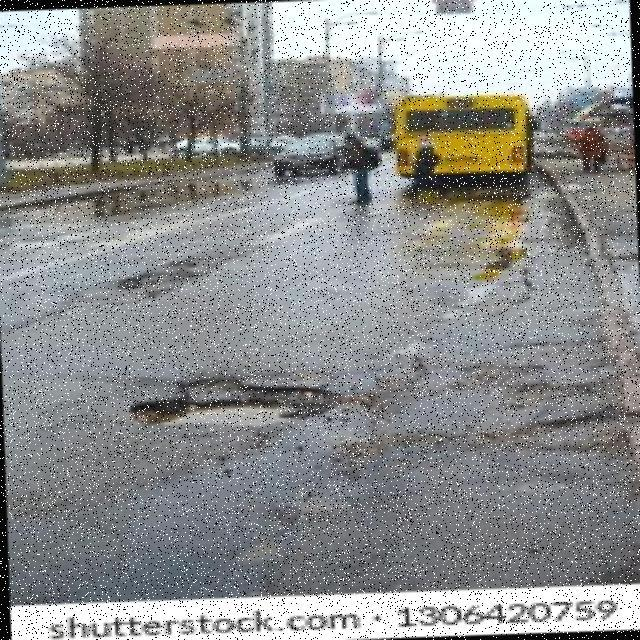Pothole: (129, 387, 344, 429)
